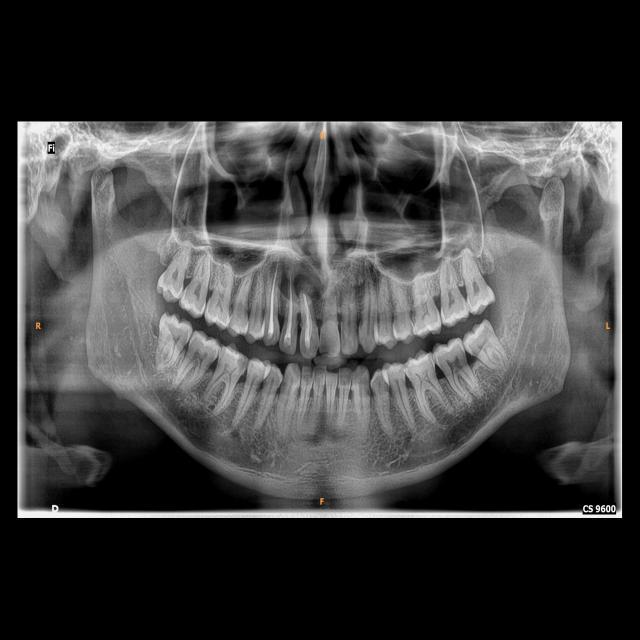kanal-tedavisi: (266, 250, 284, 326), (283, 270, 299, 331), (299, 292, 318, 338)
kok-enfeksiyonu: (280, 267, 328, 308)
